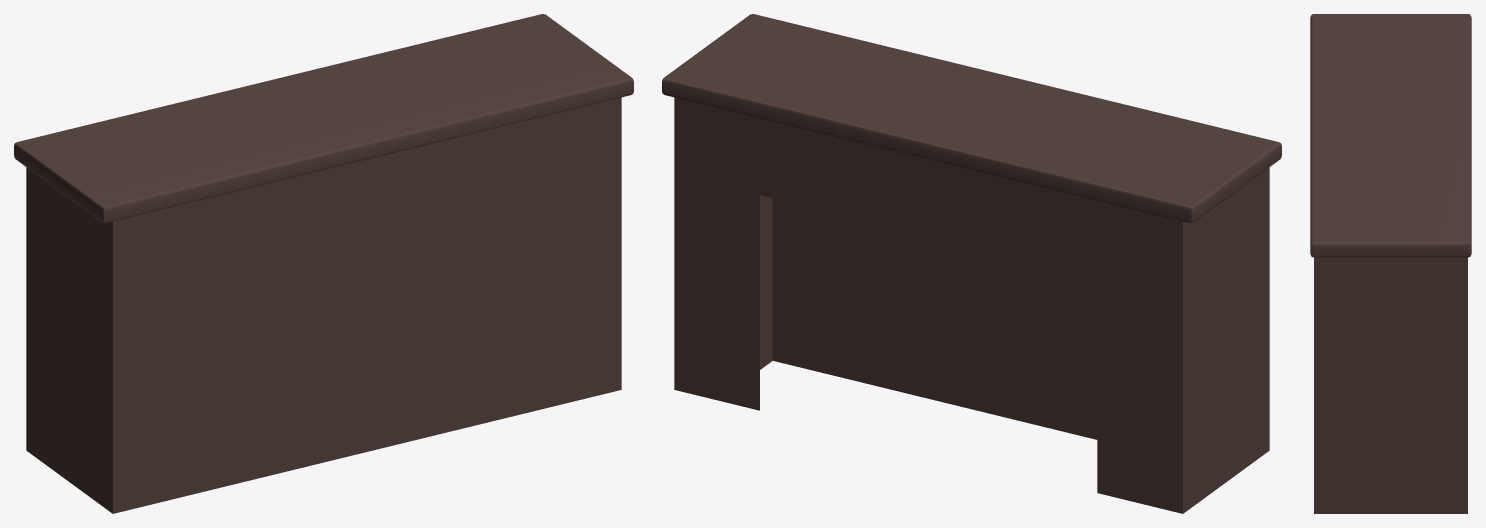
File: Fireplace_Dining.fbx
3 renders of one model, left to right at view 1: azimuth 30°, elevation 25°; view 2: azimuth 150°, elevation 25°; view 3: azimuth 270°, elevation 25°, orthographic. The views are drawn at different scales.
Visible parts, largest first — view 1: Fireplace; view 2: Fireplace; view 3: Fireplace.
Boxes of the visible parts, x1,y1,x2,y2 form: Fireplace: [14, 14, 633, 513]; Fireplace: [662, 14, 1281, 513]; Fireplace: [1310, 14, 1471, 513].
Size of the model in its own units: 3.84 by 2.14 by 1.13.
